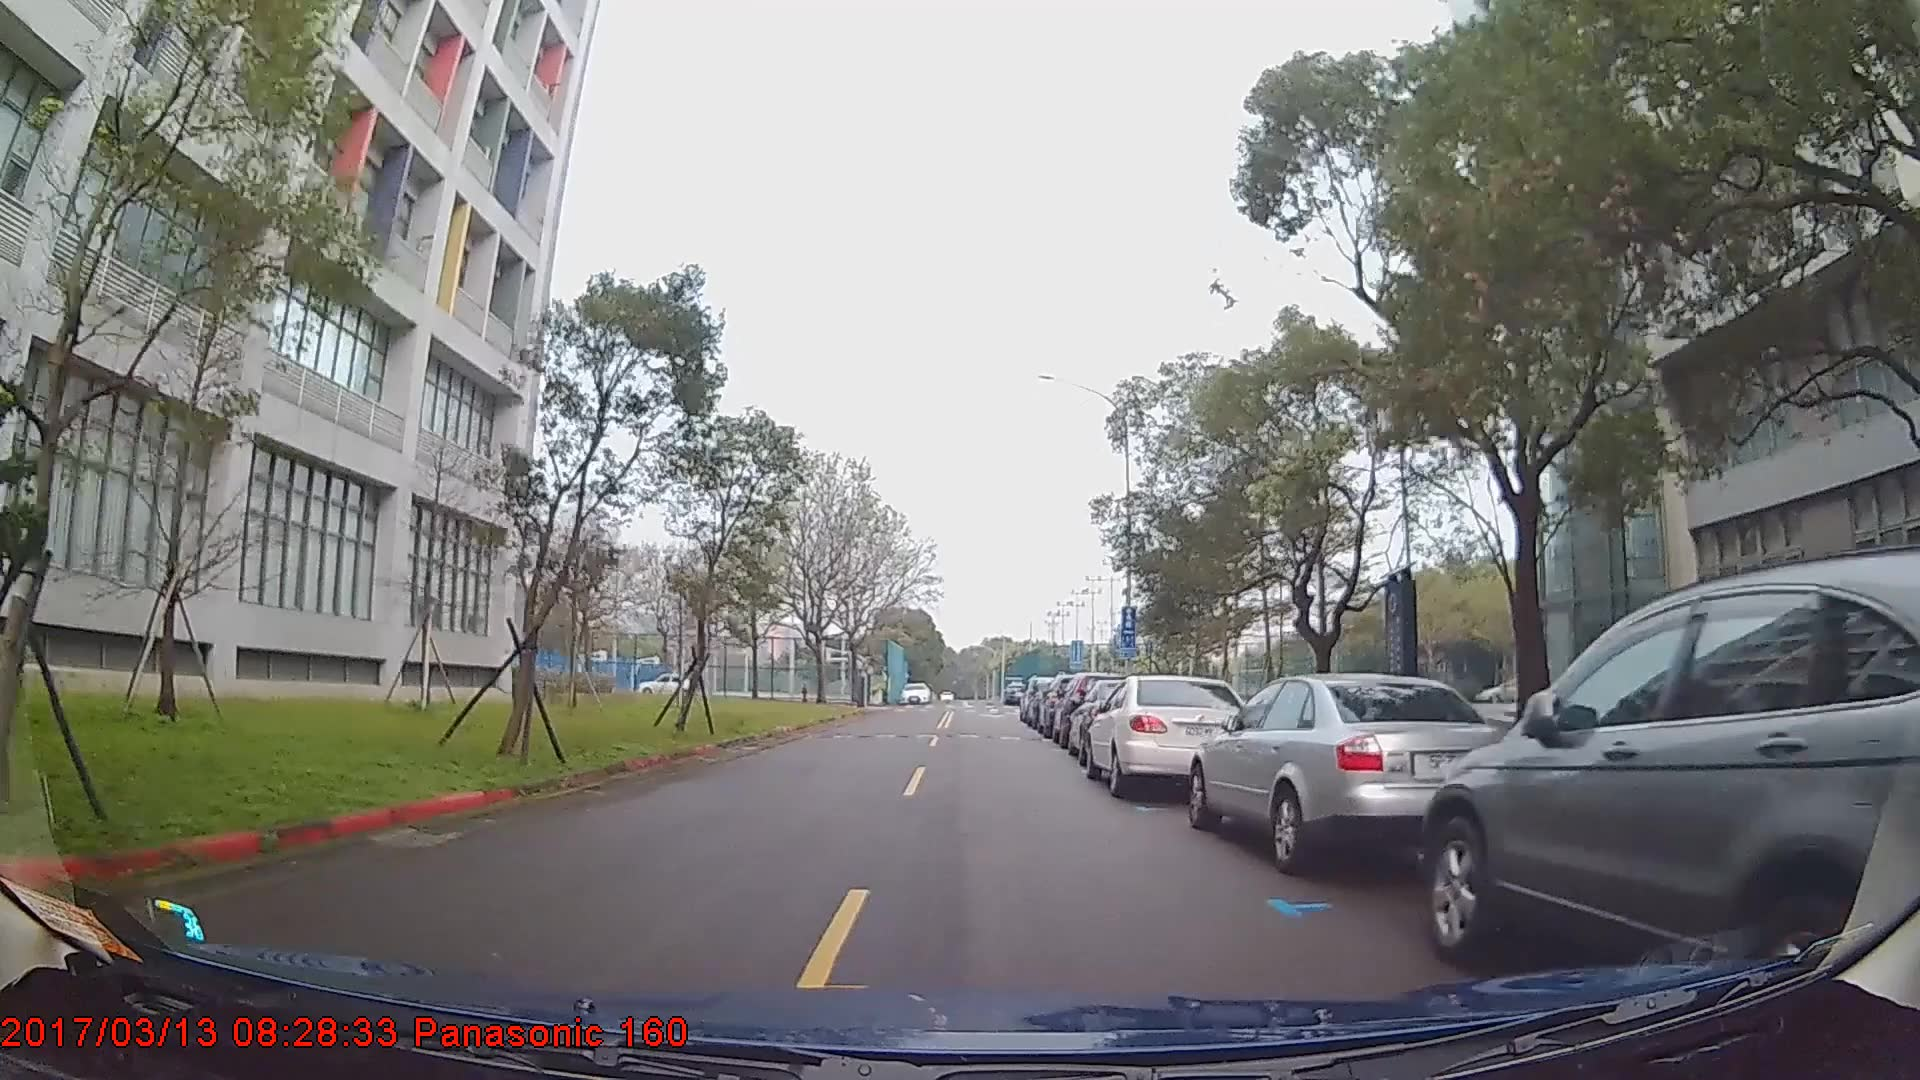vehicle: (1423, 553, 1920, 1010), (1185, 673, 1520, 873), (1083, 674, 1261, 800), (637, 673, 696, 699), (898, 682, 930, 704)
